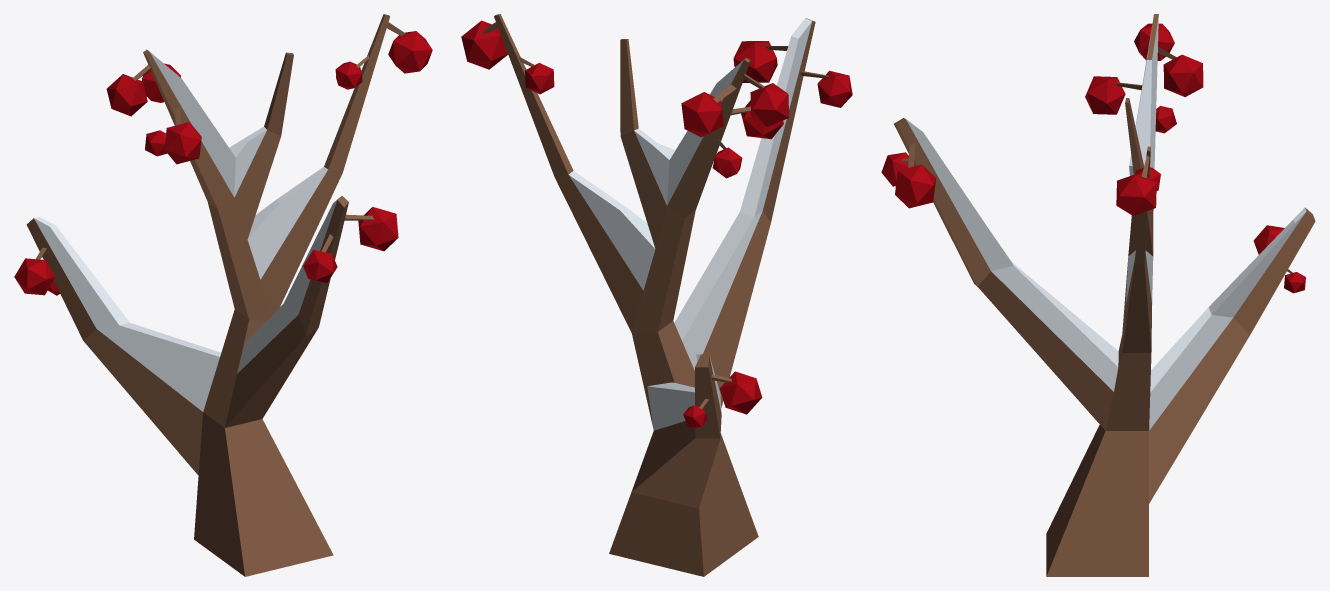
The model's file is BushWinter2.fbx.
3 views of the same model, side by side, from view 1: azimuth 30°, elevation 25°; view 2: azimuth 150°, elevation 25°; view 3: azimuth 270°, elevation 25° (orthographic). The views are drawn at different scales.
Visible parts, largest first — view 1: BushWinter2; view 2: BushWinter2; view 3: BushWinter2.
Part boxes in pixels (left/top/right/bottom): BushWinter2: left=14, top=14, right=432, bottom=576; BushWinter2: left=461, top=14, right=852, bottom=576; BushWinter2: left=881, top=14, right=1315, bottom=576.
Size of the model in its own units: 0.4174 by 0.5787 by 0.4566.
